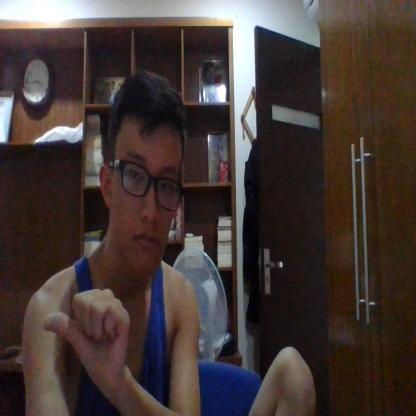right: (43, 284, 132, 382)
